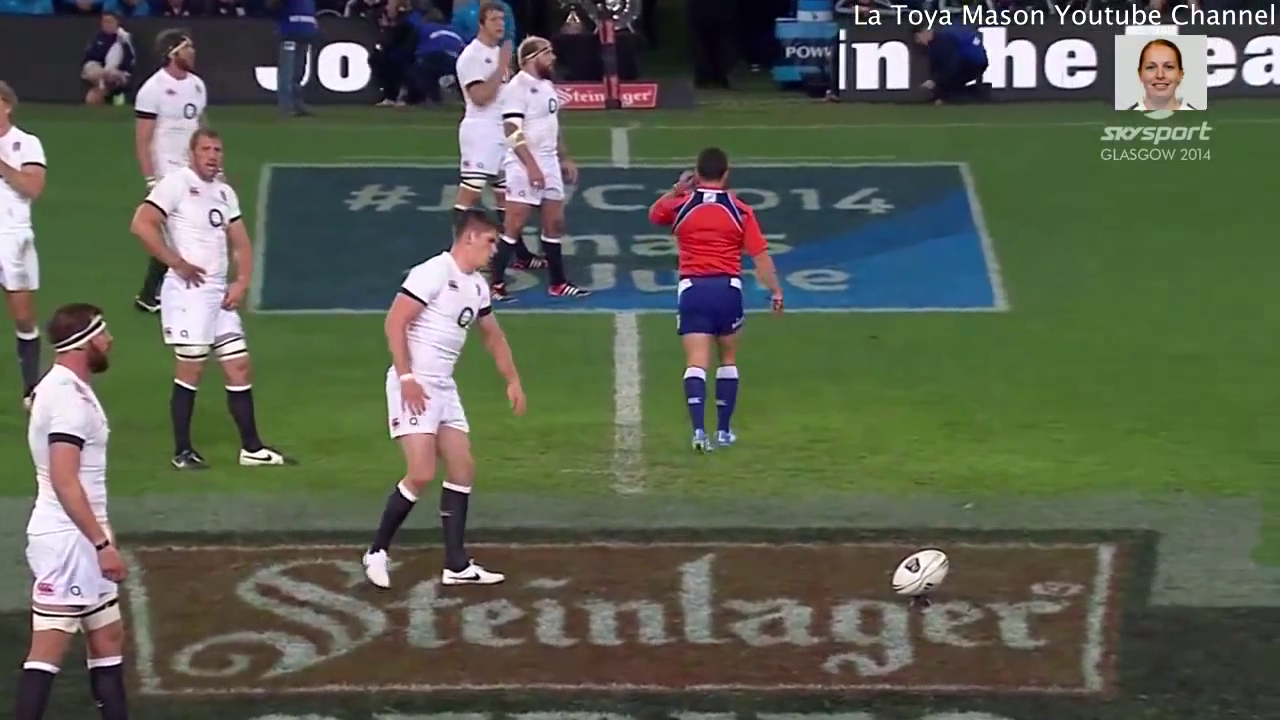player: (345, 208, 535, 601), (122, 120, 310, 478), (1, 292, 144, 720), (639, 140, 793, 468), (121, 20, 225, 336), (493, 31, 597, 308), (439, 1, 523, 279), (1, 64, 65, 423)
